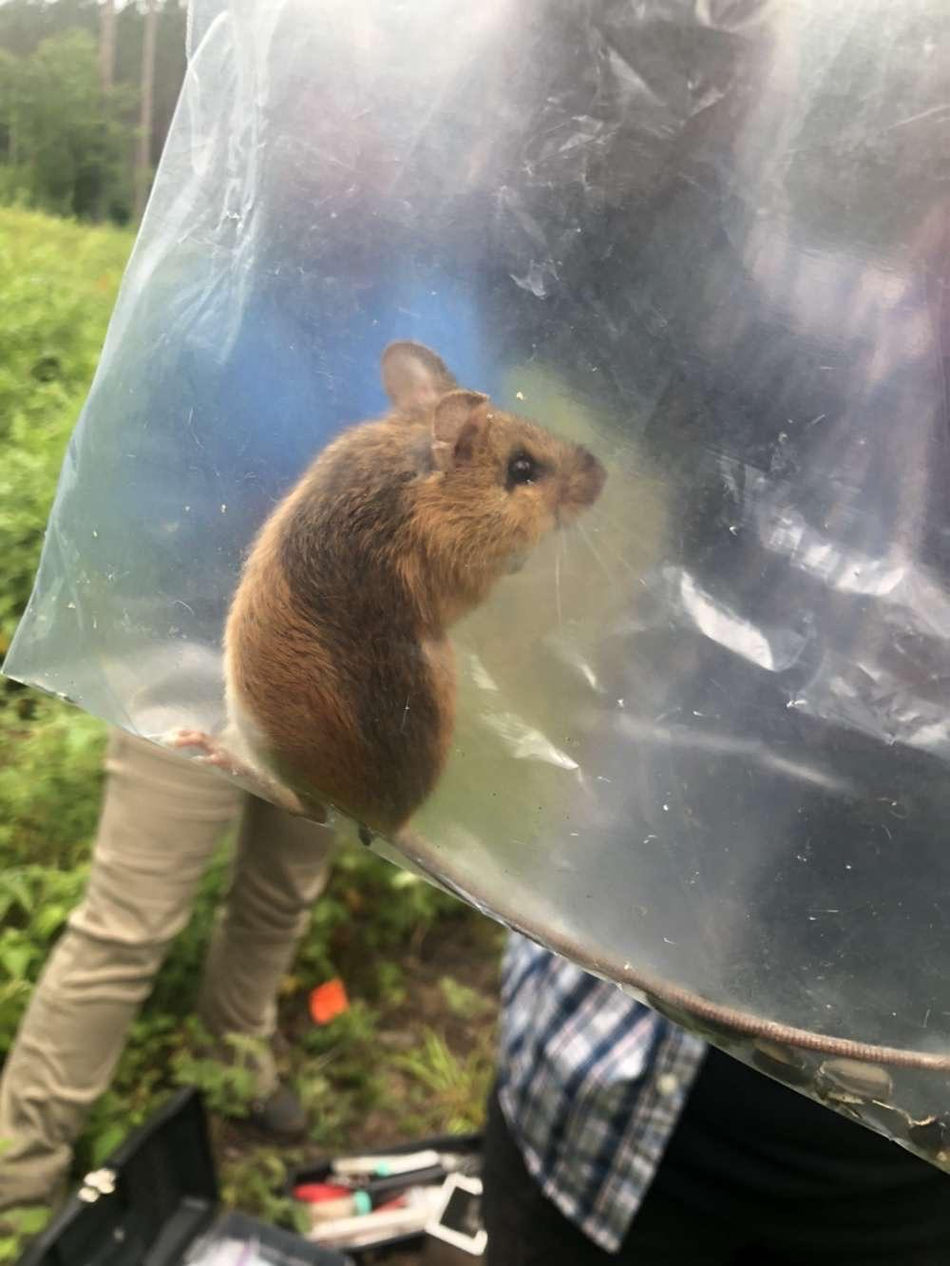rat: (185, 344, 950, 1070)
